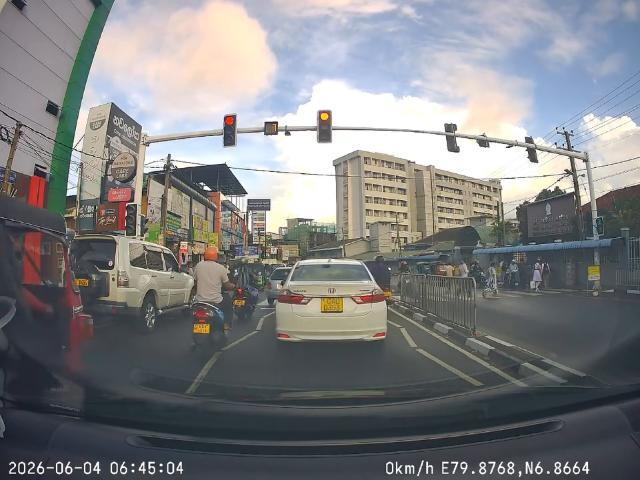traffic light red: (310, 104, 333, 162), (220, 107, 243, 154)
